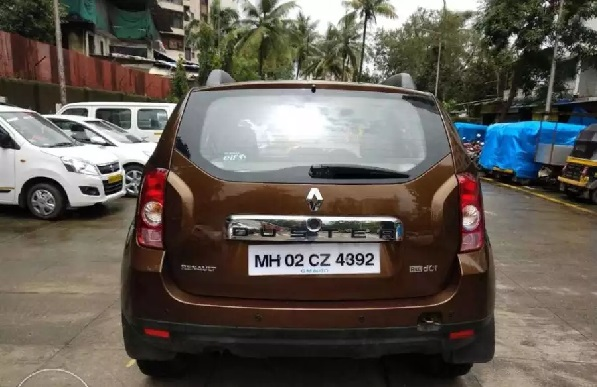licenseplate: (245, 242, 386, 277)
